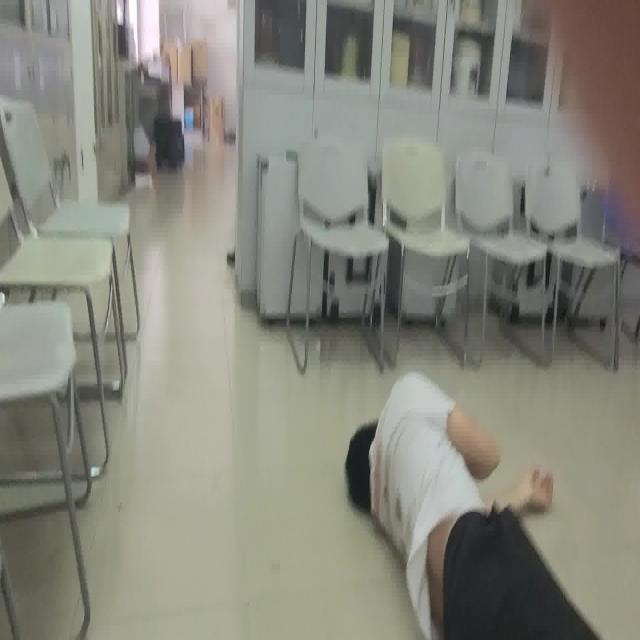Fall-Detected: (343, 366, 607, 640)
